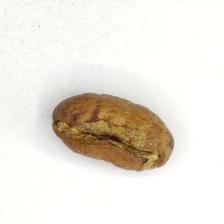NG: (56, 112, 172, 173)
